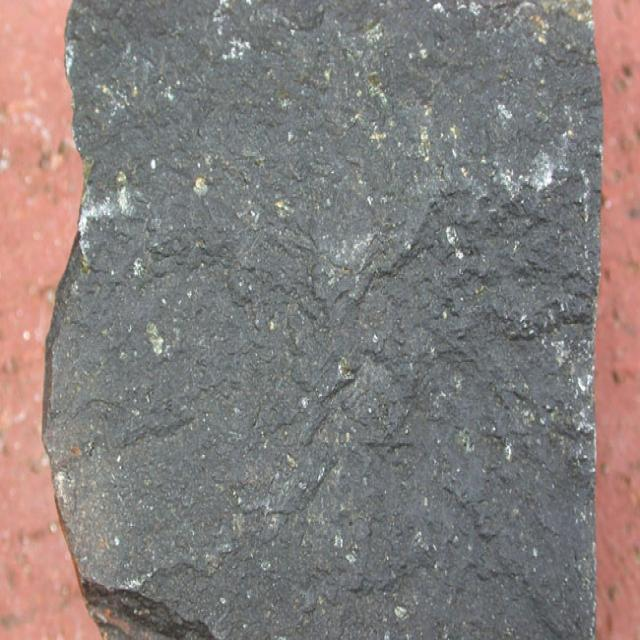Igneous: (58, 1, 600, 636)
